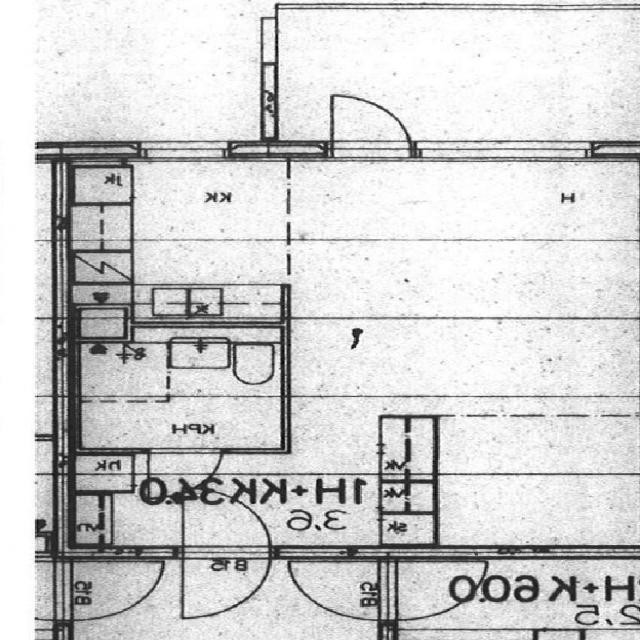door: (183, 546, 270, 616), (183, 488, 270, 558), (332, 88, 412, 161), (148, 448, 222, 501)
